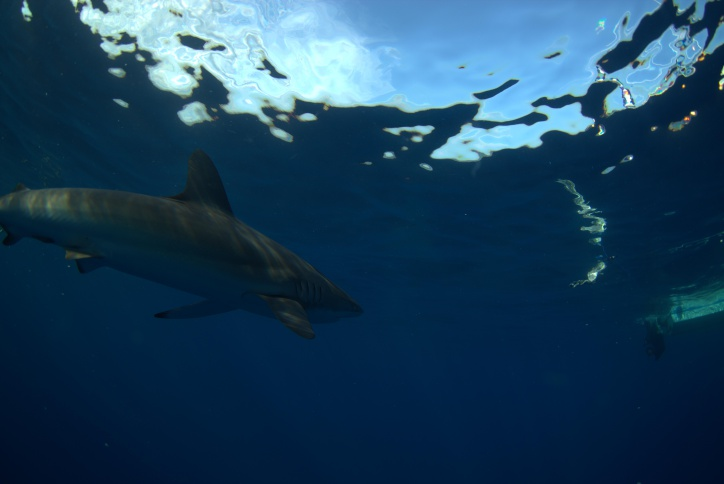Sedoso: (1, 143, 375, 357)
